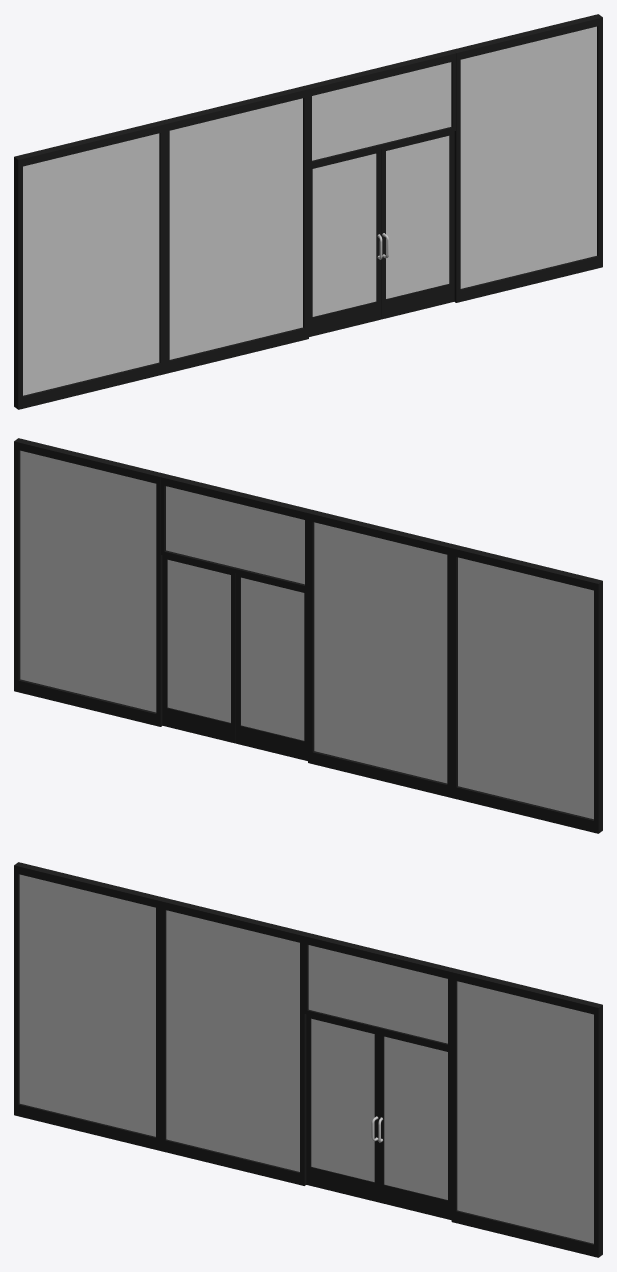
Rendered from Entrance door.fbx.
3 renders of one model, top to bottom at view 1: azimuth 30°, elevation 25°; view 2: azimuth 150°, elevation 25°; view 3: azimuth 330°, elevation 25°, orthographic.
Parts seen in each view (by area): view 1: windows door, door A, door B; view 2: windows door, door A, door B; view 3: windows door, door B, door A.
Boxes of the visible parts, x1,y1,x2,y2 form: windows door: [14, 14, 602, 409]; door A: [381, 131, 454, 319]; door B: [309, 149, 382, 336]; windows door: [14, 438, 602, 833]; door A: [162, 555, 235, 743]; door B: [235, 573, 307, 760]; windows door: [14, 862, 602, 1257]; door B: [306, 1014, 379, 1202]; door A: [378, 1032, 451, 1220].
Bounding box in the file's own units: 865 × 353 × 17.99.
